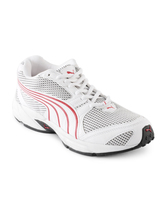shoes: (11, 57, 158, 158)
